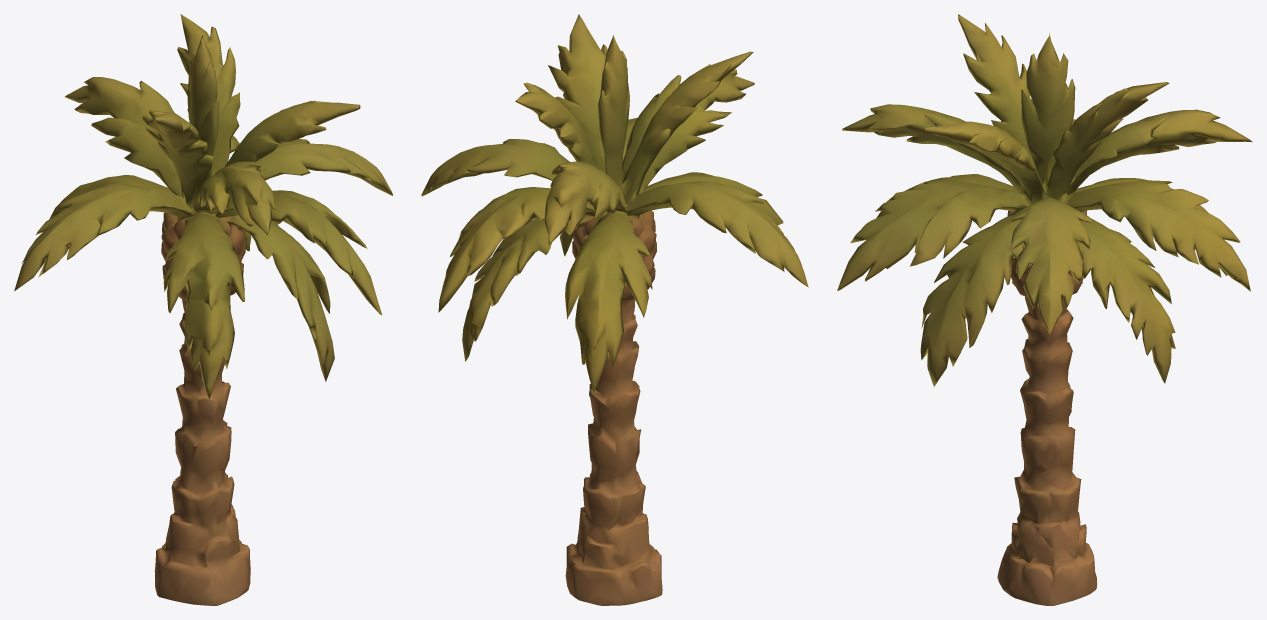
Rendered from stylized+palm+tree+3d+model.glb.
3 views of the same model, side by side, from view 1: azimuth 30°, elevation 25°; view 2: azimuth 150°, elevation 25°; view 3: azimuth 270°, elevation 25° (orthographic).
Visible parts, largest first — view 1: tripo_node_e7443955-e42b-4af3-9e9c-5c53a926b887; view 2: tripo_node_e7443955-e42b-4af3-9e9c-5c53a926b887; view 3: tripo_node_e7443955-e42b-4af3-9e9c-5c53a926b887.
Boxes of the visible parts, box(x1,y1,x2,y2) form: tripo_node_e7443955-e42b-4af3-9e9c-5c53a926b887: box(14, 14, 392, 605); tripo_node_e7443955-e42b-4af3-9e9c-5c53a926b887: box(421, 14, 808, 605); tripo_node_e7443955-e42b-4af3-9e9c-5c53a926b887: box(837, 14, 1252, 605).
Size of the model in its own units: 0.7245 by 1 by 0.6793.
1 material, 1 textured.
